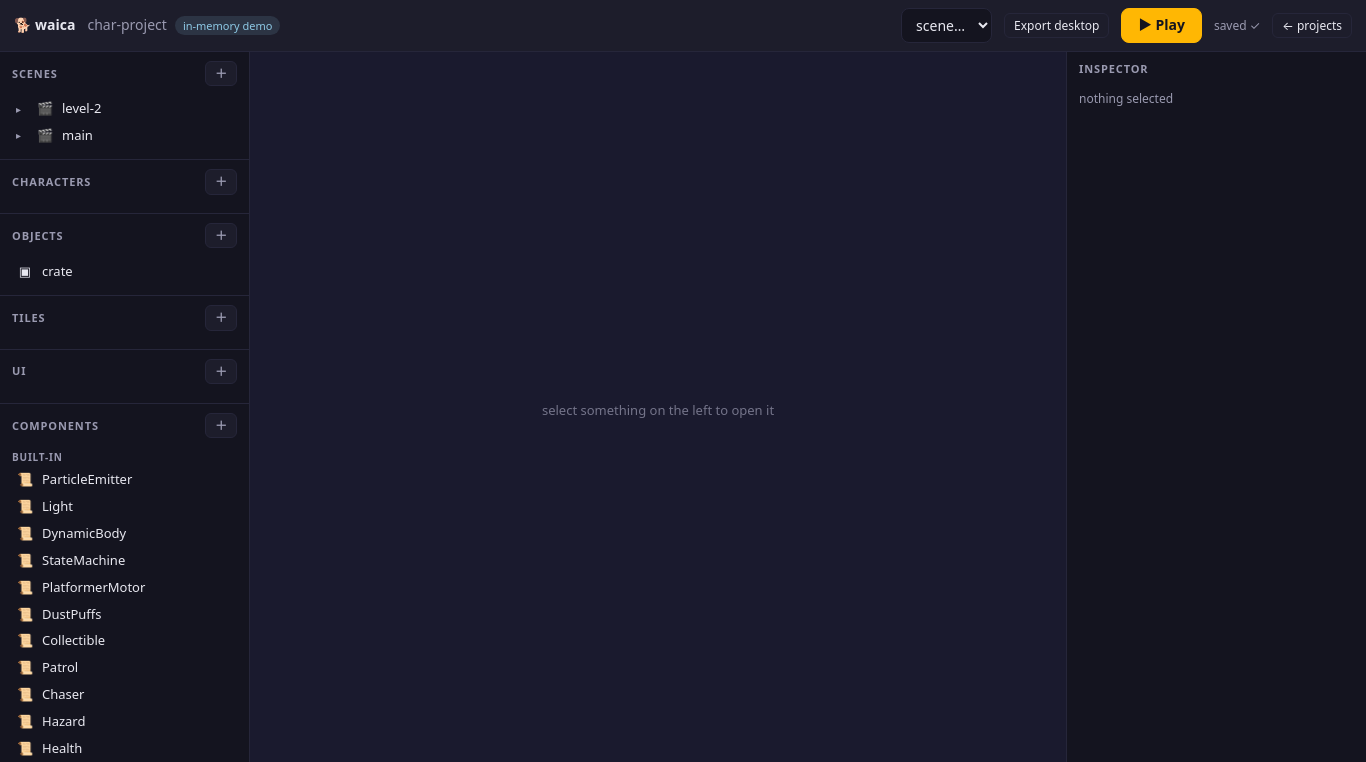
Test: the export modal in the editor (issue 200 CA-24, CA-25) › offers Steam with game.json's app id, and writes nothing
Click the button "Export desktop" at (1057, 26), box [1004,13,1110,38]
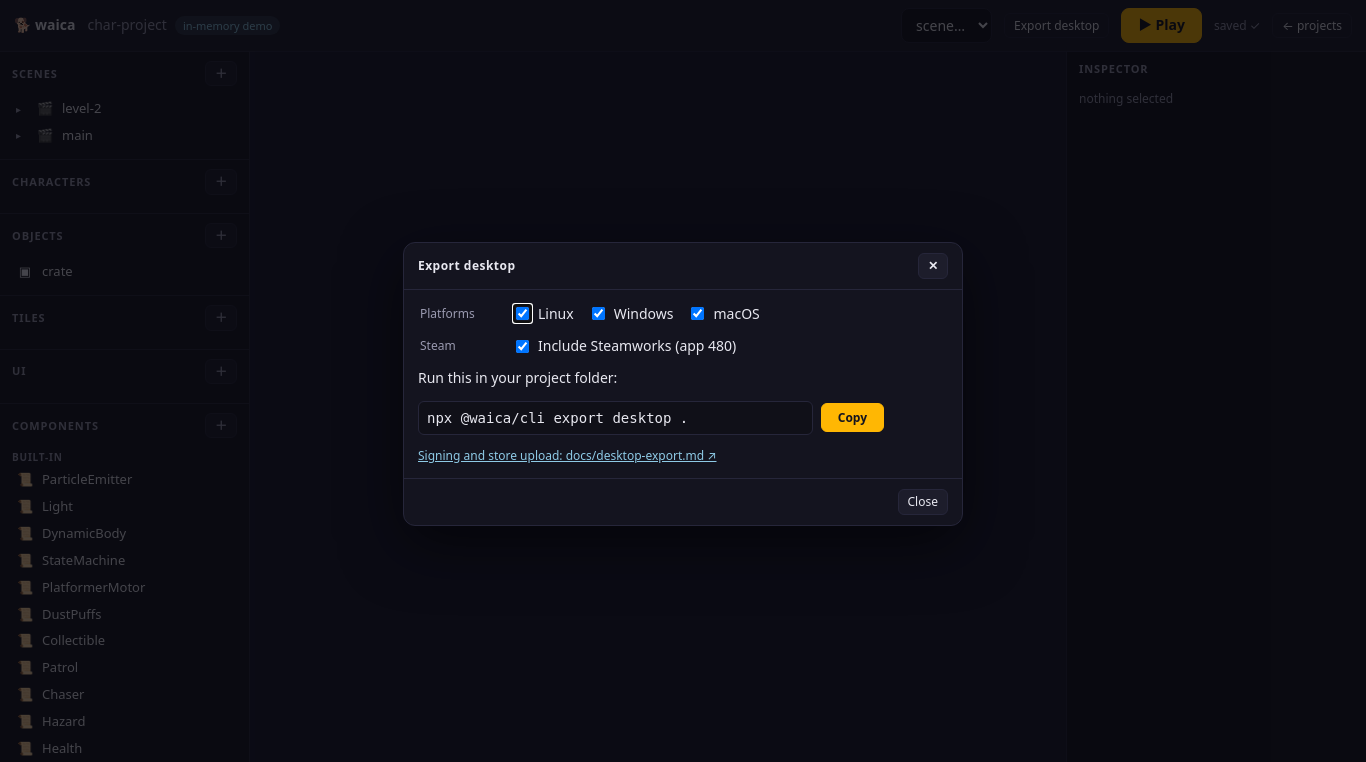
Check: the checkbox labelled "Include Steamworks (app 480)" is shown
Click the checkbox labelled "Include Steamworks (app 480)" at (522, 346), box [516,340,529,353]
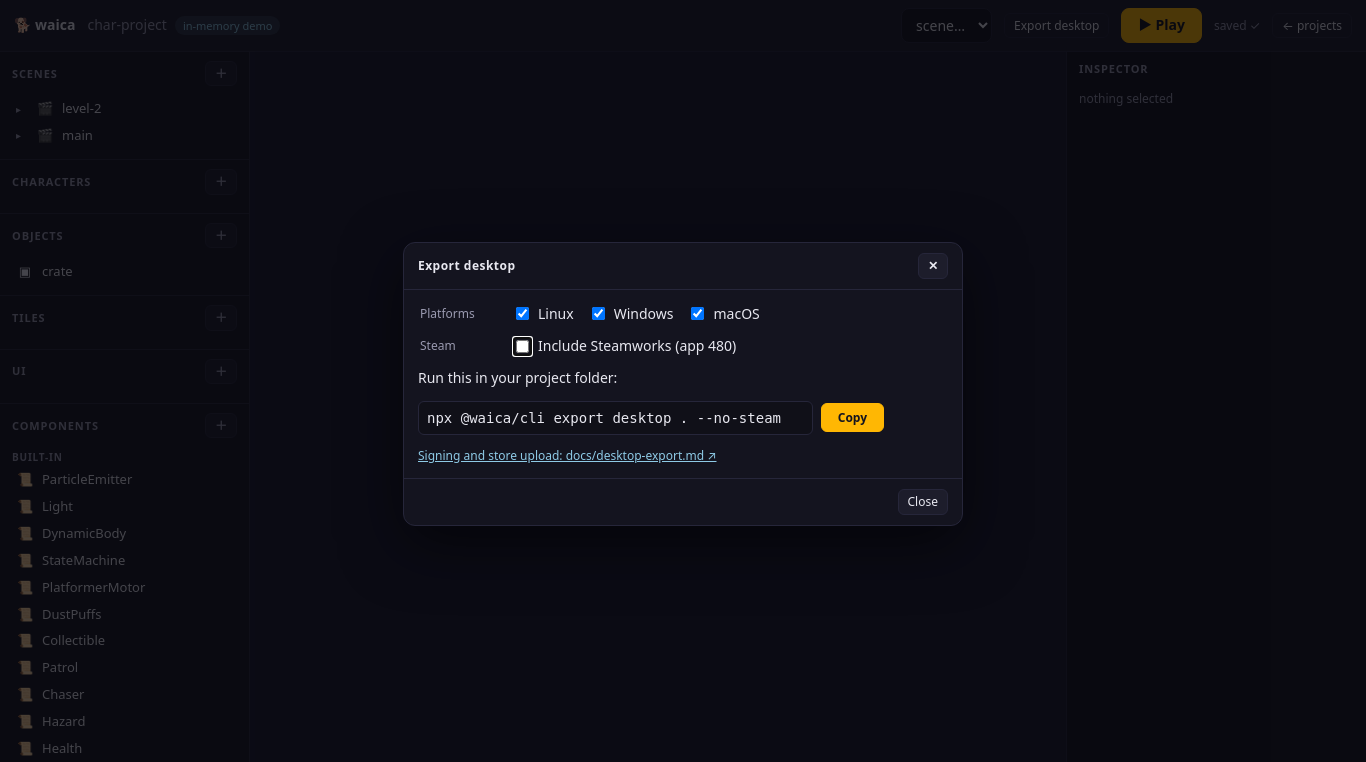
Check: the field holds "npx @waica/cli export desktop . --no-steam", box [418,401,813,435]
